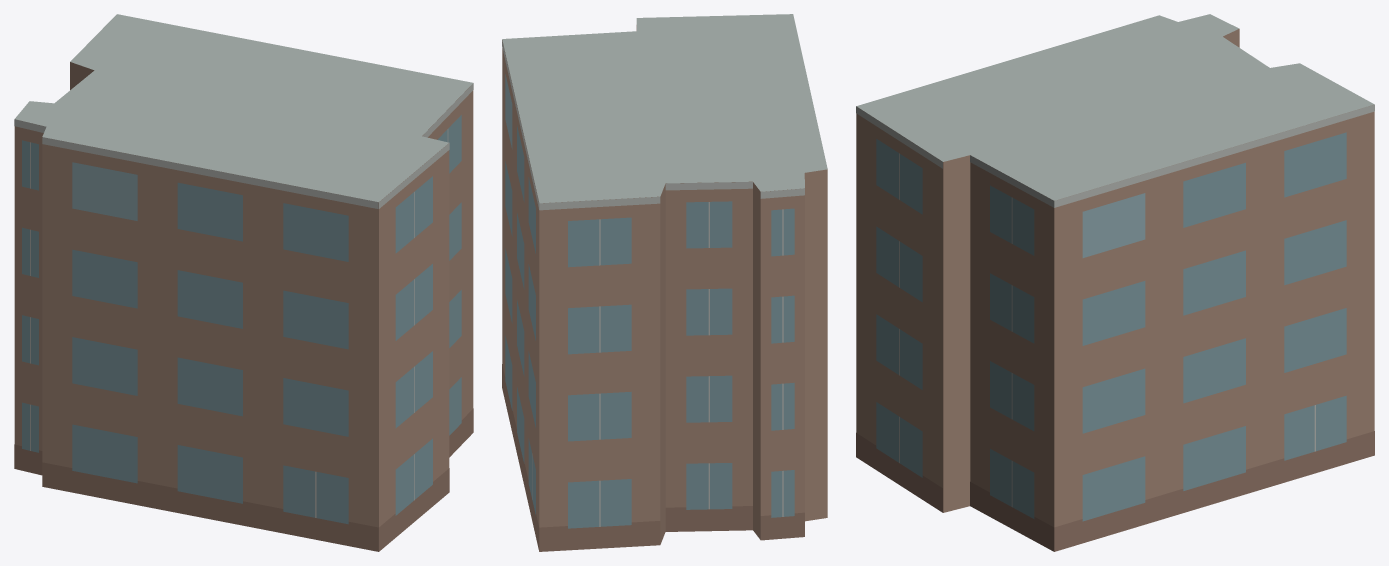
The model's file is survey-upis-32495152.glb.
The picture shows the model from 3 angles, left to right: view 1: azimuth 30°, elevation 25°; view 2: azimuth 150°, elevation 25°; view 3: azimuth 270°, elevation 25°; orthographic projection.
Parts seen in each view (by area): view 1: survey-upis-32495152.tmp; view 2: survey-upis-32495152.tmp; view 3: survey-upis-32495152.tmp.
Part boxes in pixels (<box>): survey-upis-32495152.tmp: <box>14,14,473,551</box>; survey-upis-32495152.tmp: <box>502,14,827,551</box>; survey-upis-32495152.tmp: <box>856,14,1374,551</box>.
Bounding box in the file's own units: 13.82 × 12.1 × 16.21.
